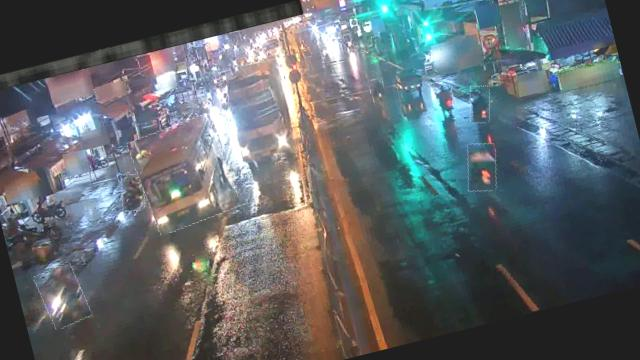Bike: (34, 261, 90, 331), (461, 140, 504, 195), (117, 171, 150, 214), (464, 83, 496, 125), (431, 78, 460, 122), (368, 77, 388, 106), (217, 92, 232, 114)
Bus: (127, 114, 240, 236)
Truck: (218, 58, 299, 165)
